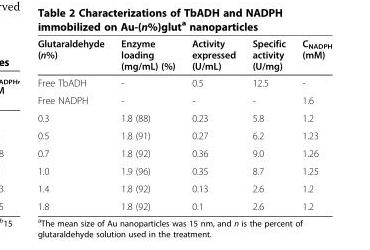table: (36, 37, 331, 211)
table column: (36, 37, 112, 211), (112, 37, 182, 211), (182, 37, 243, 211), (243, 37, 293, 211), (293, 37, 331, 211)
table column header: (36, 37, 331, 74)
table row: (36, 37, 331, 74), (36, 108, 331, 126), (36, 126, 331, 144), (36, 161, 331, 179), (36, 179, 331, 197), (36, 74, 331, 91), (36, 91, 331, 108), (36, 144, 331, 161), (36, 197, 331, 211)
